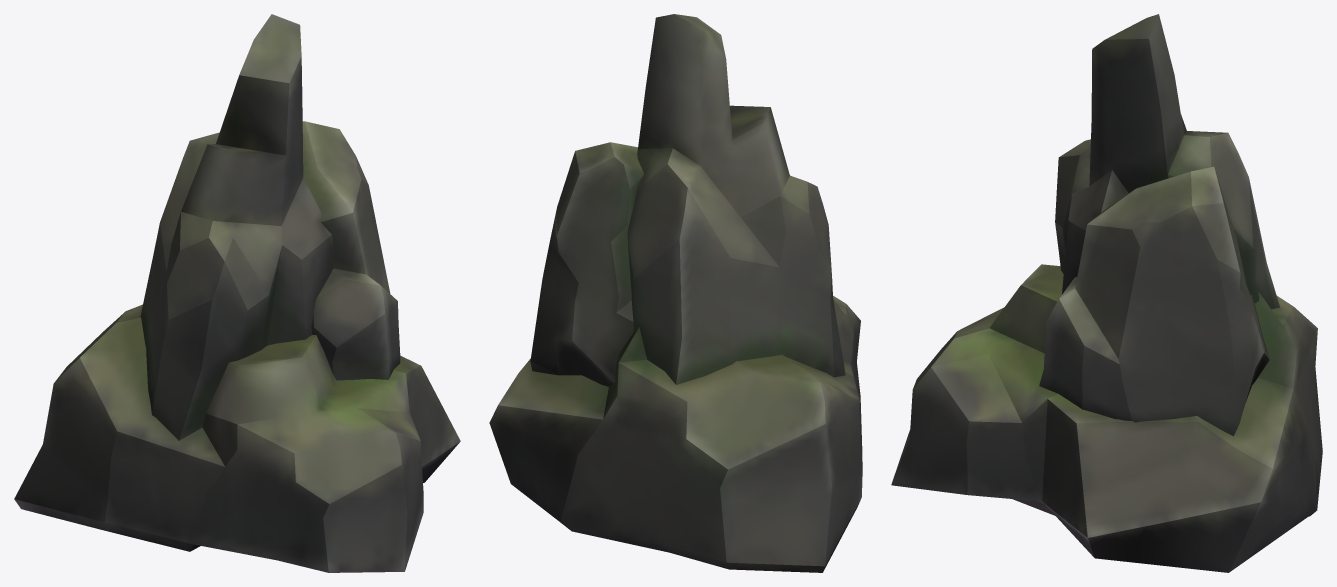
The model's file is rock_5.glb.
3 views of the same model, side by side, from view 1: azimuth 30°, elevation 25°; view 2: azimuth 150°, elevation 25°; view 3: azimuth 270°, elevation 25° (orthographic). The views are drawn at different scales.
Parts seen in each view (by area): view 1: Rock_5; view 2: Rock_5; view 3: Rock_5.
Part boxes in pixels (<box>): Rock_5: <box>14,14,460,572</box>; Rock_5: <box>489,14,862,572</box>; Rock_5: <box>891,14,1322,572</box>.
Bounding box in the file's own units: 1.29 × 1.69 × 1.32.
Materials: 1 (1 with a texture image).
